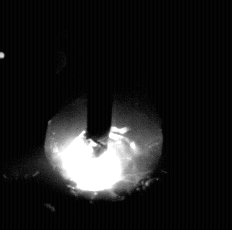arame: (88, 0, 113, 156)
poca: (44, 0, 160, 230)
